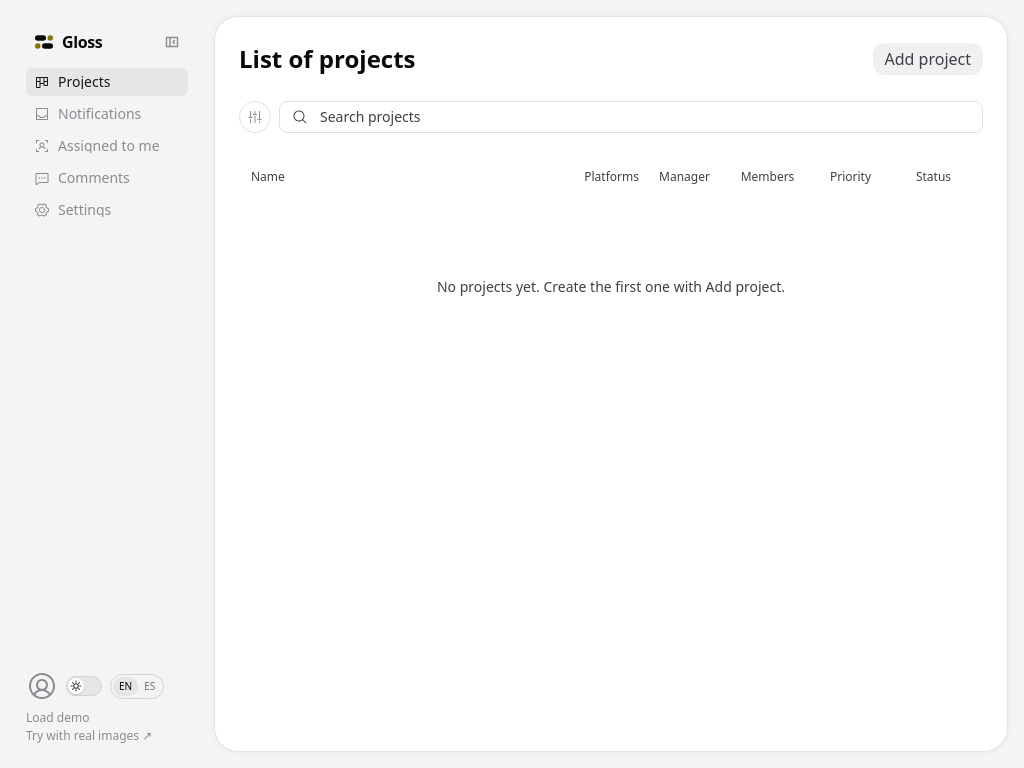
Test: Demo controls › shows an error when the demo cannot be downloaded
What coordinates should you click on to do the following:
click the button "Load demo"
I would click on:
 (58, 718)
Its box is [26,712,89,724].
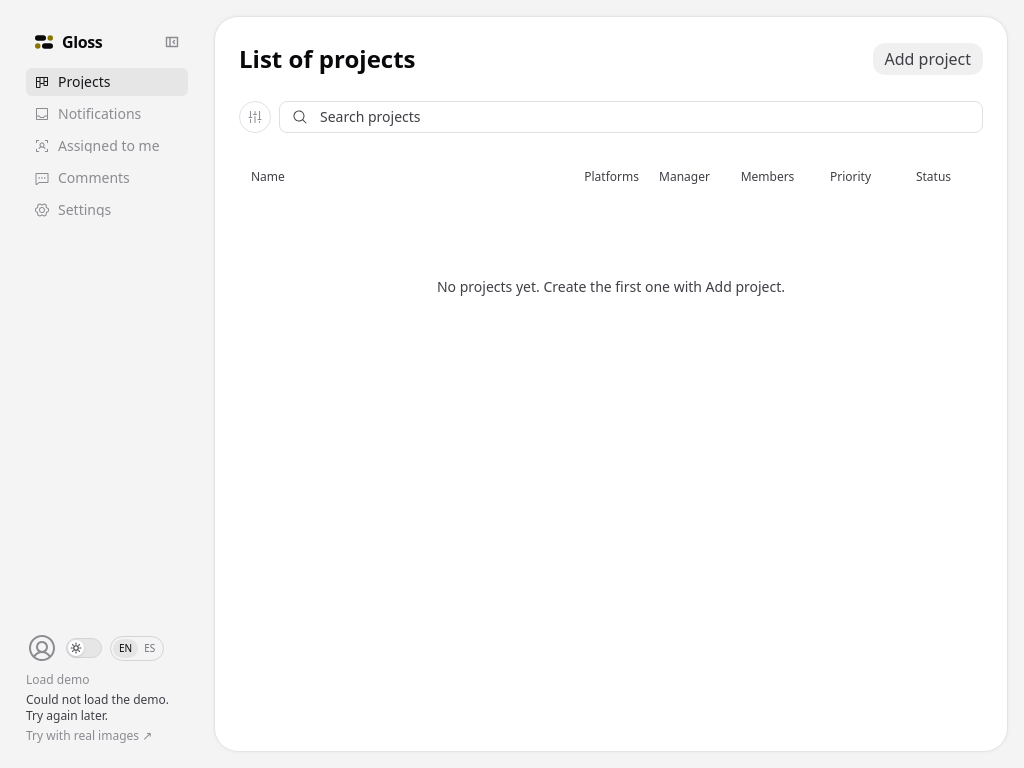
Expected: the button "Load demo" is enabled, [26,674,89,686]
Expected: the message shows "Could not load the demo", [26,691,169,724]
